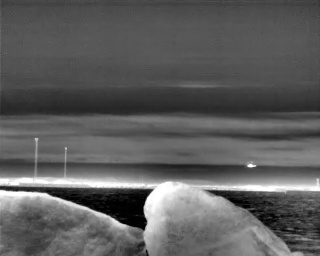HELICOPTER: (244, 159, 259, 172)
